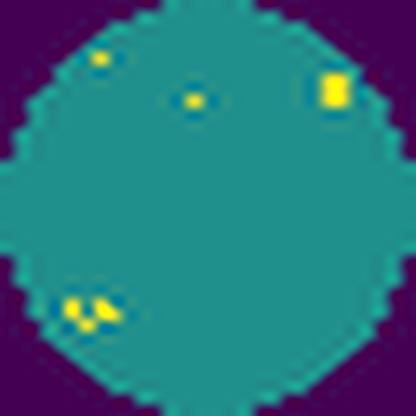Edge-Loc: (66, 292, 122, 332), (320, 73, 350, 110)
